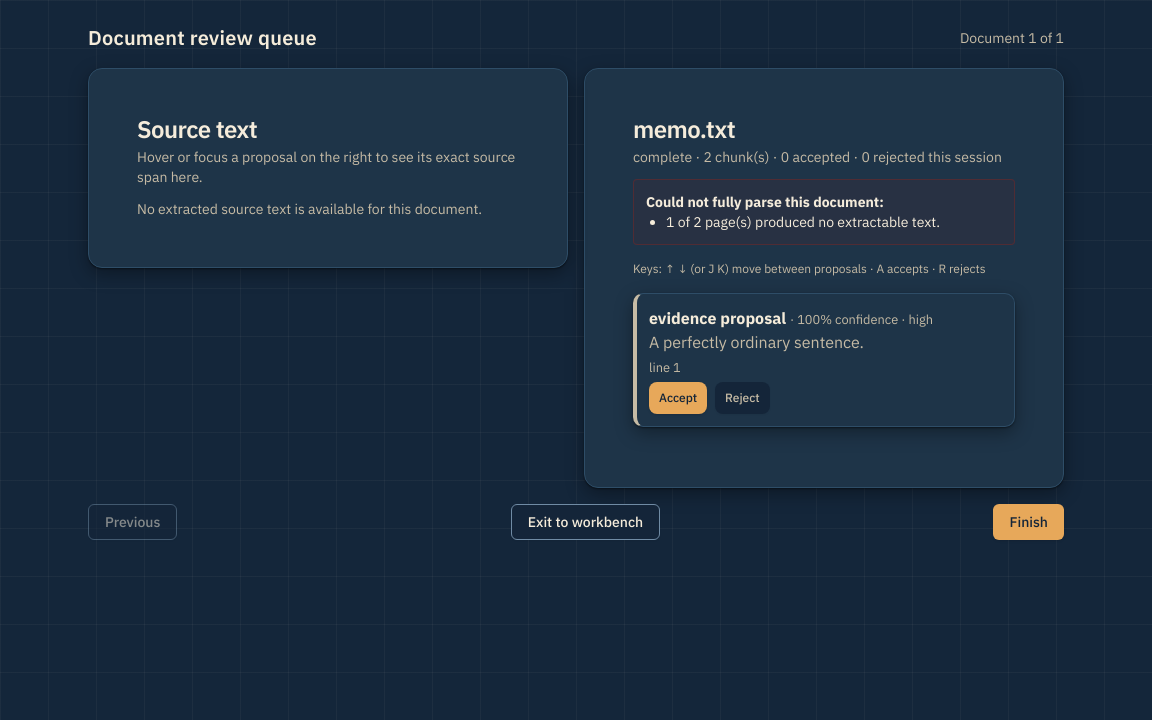
it: Document review queue: issues and clarifying questions › shows the extraction-issues banner and lets the reporter accept a plain proposal
Expected: the element with test id "issue-banner" is shown, x1=633 y1=179 x2=1015 y2=245
Expected: the list item "1 of 2 page(s) produced no extractable text." is shown, x1=666 y1=213 x2=940 y2=231
Step 1. Click the button "Accept" → (678, 398), box x1=649 y1=382 x2=707 y2=414
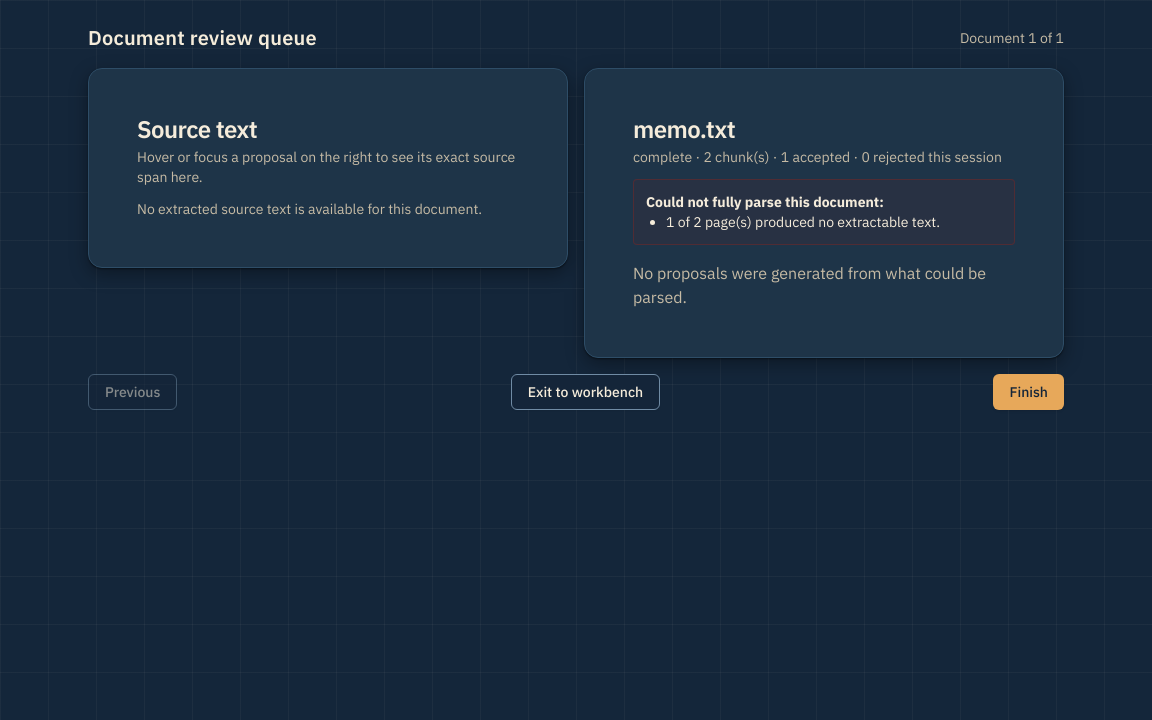
Expected: the text "No proposals were generated from what could be parsed." is shown, x1=633 y1=261 x2=1015 y2=309
